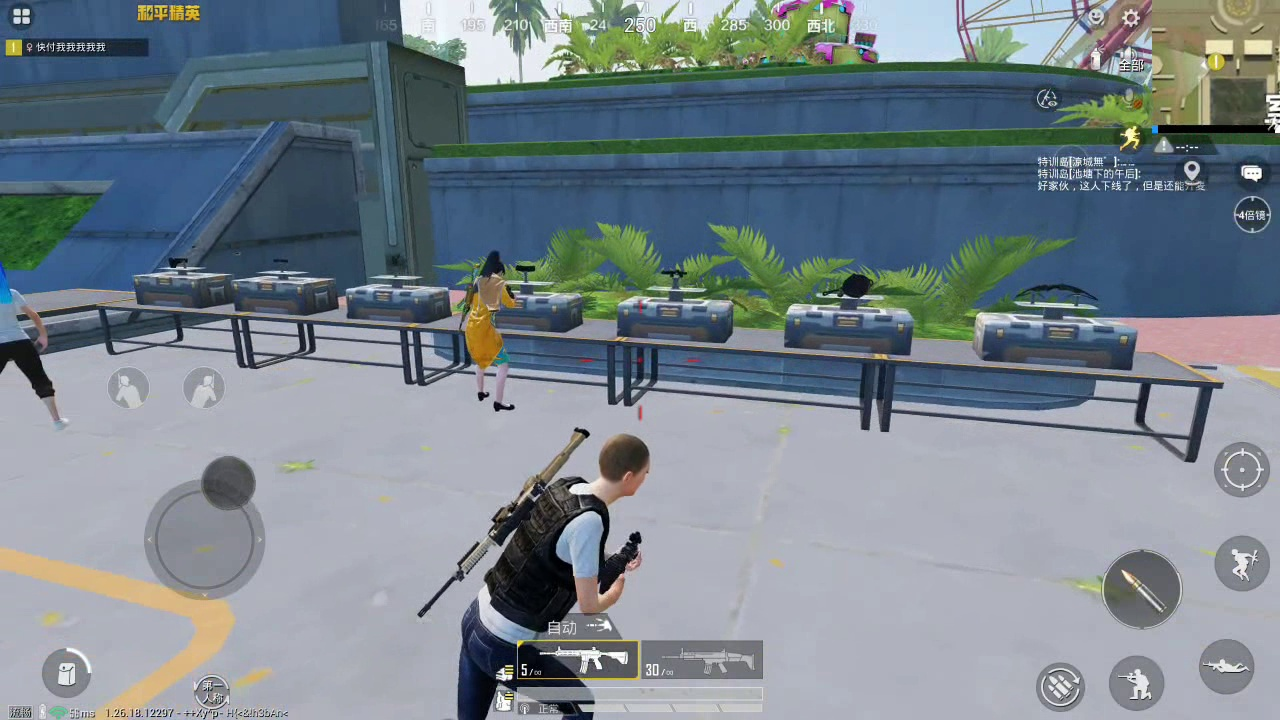enemy: (1, 272, 72, 430), (458, 249, 520, 414)
